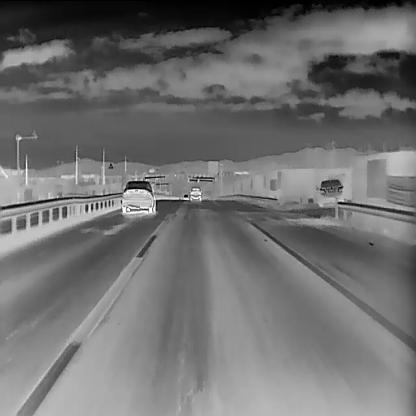car: (122, 179, 156, 213), (315, 179, 344, 206), (189, 187, 202, 201)
